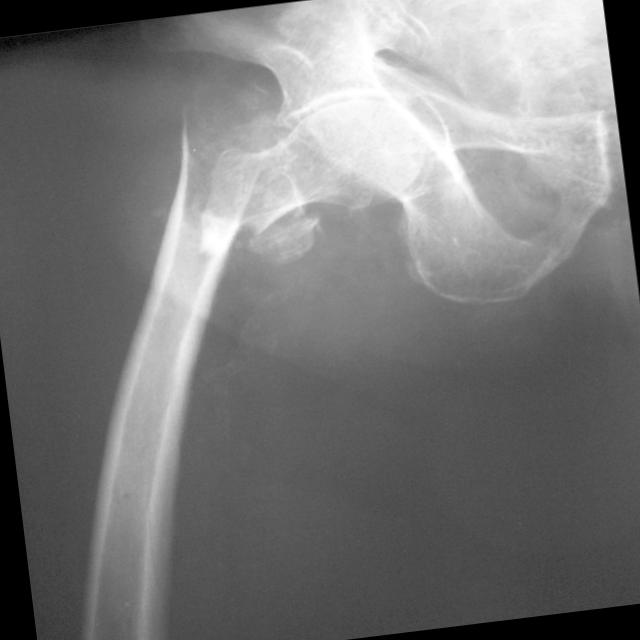right-intertrochanteric: (236, 98, 427, 236), (154, 118, 244, 281)
right-lesser-trochanter: (237, 219, 318, 265)
